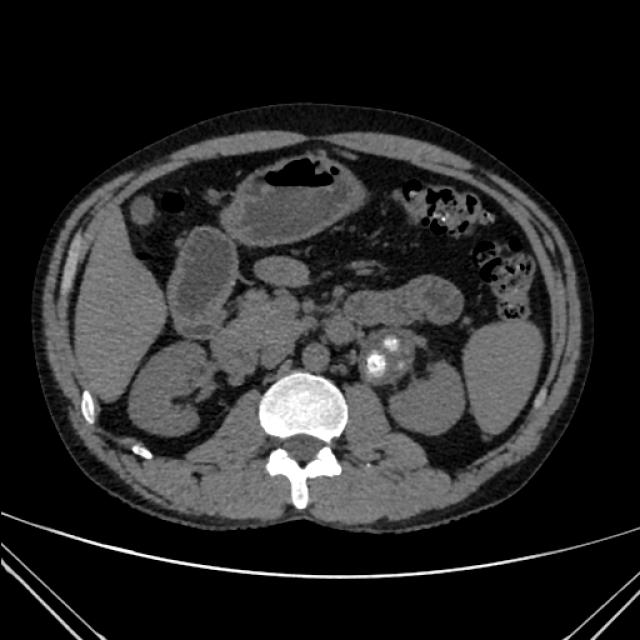kidneystone: (360, 350, 388, 386)
